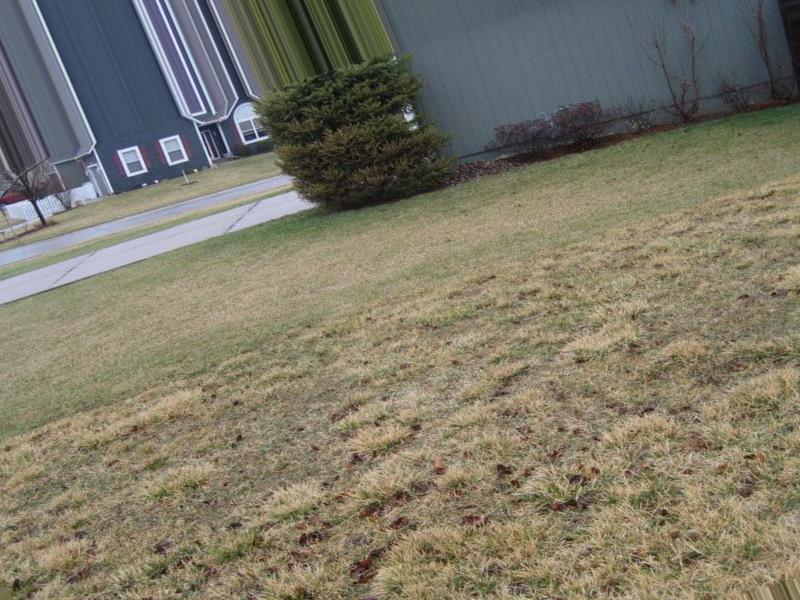patch: (55, 410, 266, 520), (304, 374, 515, 463), (534, 366, 712, 461), (604, 501, 770, 587), (393, 526, 580, 600), (90, 292, 220, 374), (559, 176, 725, 236), (331, 301, 464, 356), (482, 289, 637, 331), (221, 241, 407, 275)
